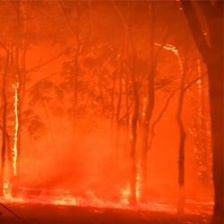fire: (1, 84, 220, 211)
